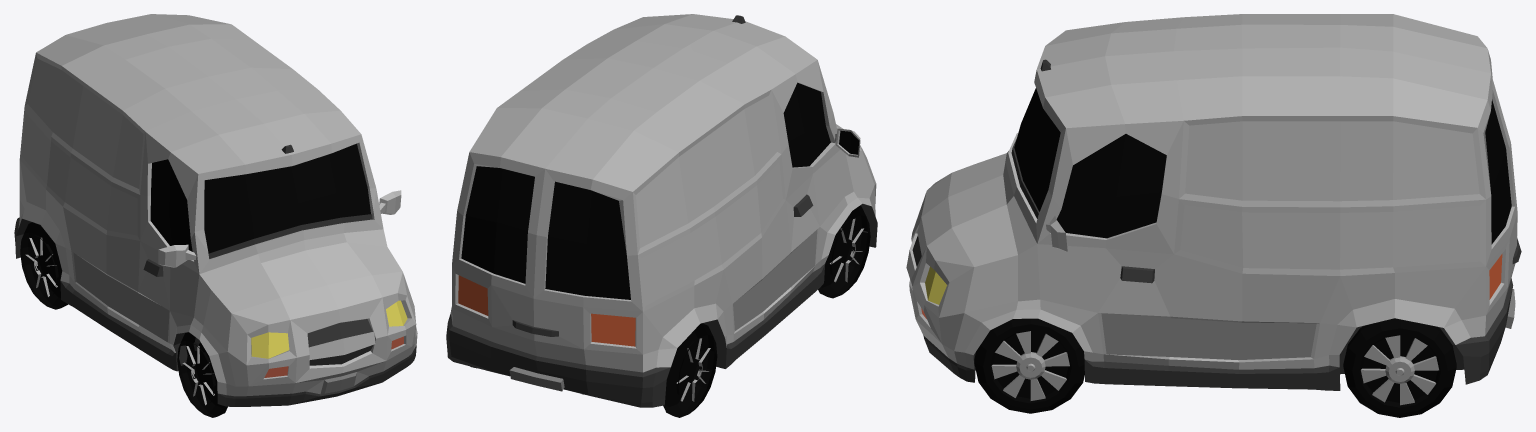
The model's file is van.glb.
3 renders of one model, left to right at view 1: azimuth 30°, elevation 25°; view 2: azimuth 150°, elevation 25°; view 3: azimuth 270°, elevation 25°, orthographic. The views are drawn at different scales.
Visible parts, largest first — view 1: van; view 2: van; view 3: van.
Part boxes in pixels (x1,y1,x2,y2): van: [14, 14, 417, 417]; van: [446, 14, 877, 417]; van: [906, 14, 1521, 417].
Size of the model in its own units: 2.75 by 2.74 by 4.9.
